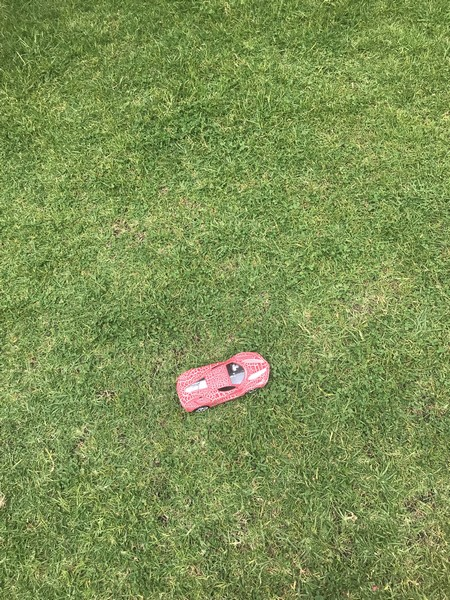RC: (174, 350, 272, 414)
